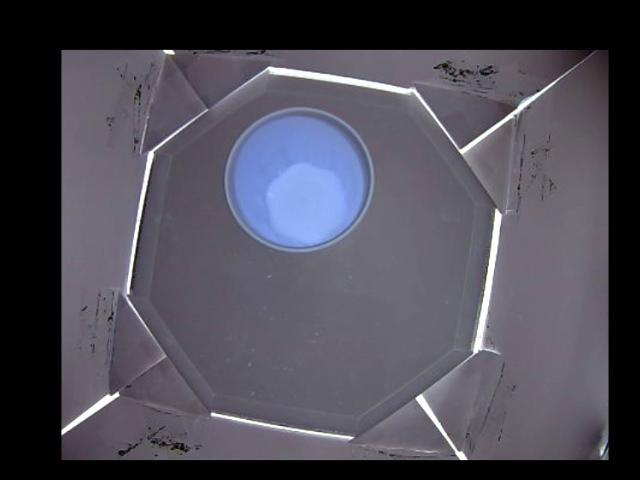Cup: (223, 103, 373, 251)
